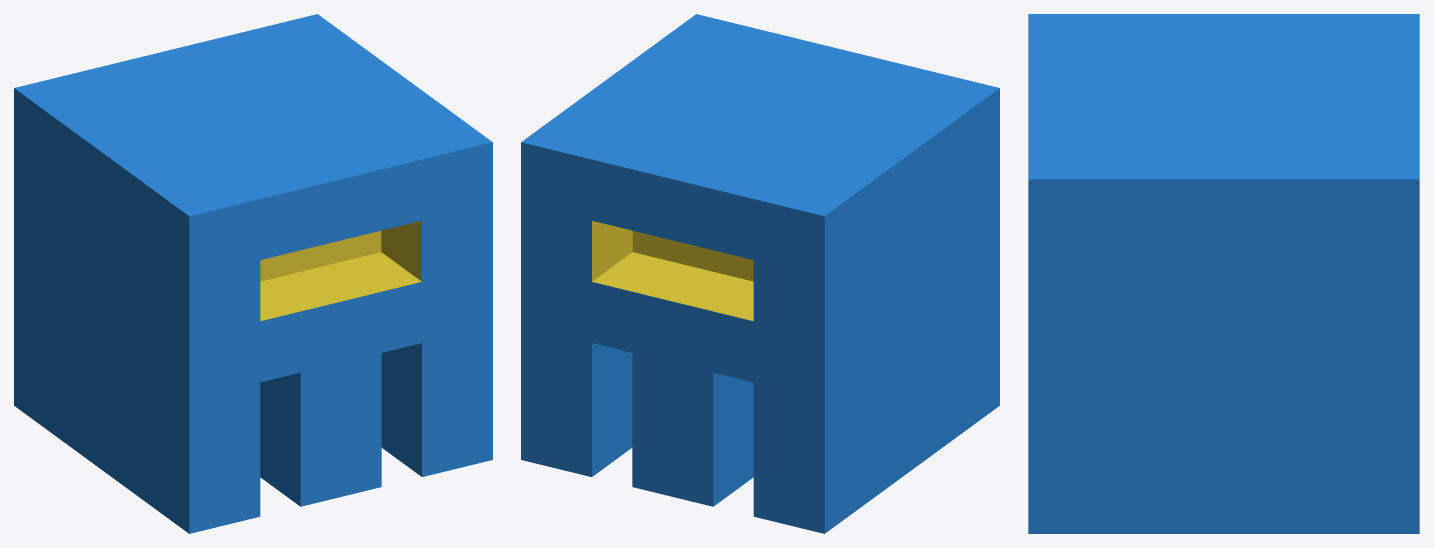
The picture shows the model from 3 angles, left to right: view 1: azimuth 30°, elevation 25°; view 2: azimuth 150°, elevation 25°; view 3: azimuth 270°, elevation 25°; orthographic projection. The views are drawn at different scales.
Visible parts, largest first — view 1: Cube; view 2: Cube; view 3: Cube.
Part boxes in pixels (left/top/right/bottom): Cube: left=14, top=14, right=492, bottom=533; Cube: left=521, top=14, right=999, bottom=533; Cube: left=1028, top=14, right=1419, bottom=533.
Size of the model in its own units: 200 by 200 by 200.
